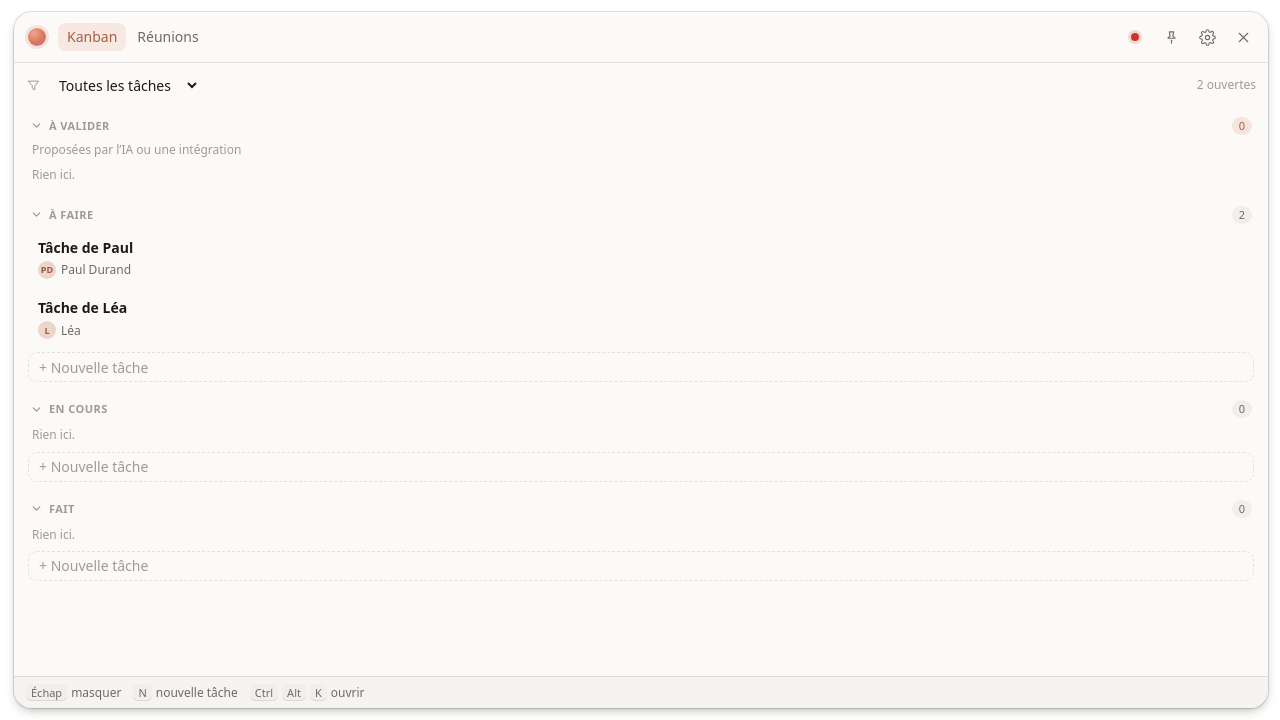
Test: Kanban filter (lead follow-up) › shows only one person’s tasks, with their avatar, and new tasks go to them
This screenshot has width=1280, height=720.
Later steps or results of the test are not shown.
Expected: the text "Tâche de Léa" is shown, [38,298,127,317]
Expected: the text "PD" is shown, [38,261,56,279]
Select "Paul Durand (1)" in the dropdown named "Filtrer les tâches" at (124, 85), box [47,71,200,99]
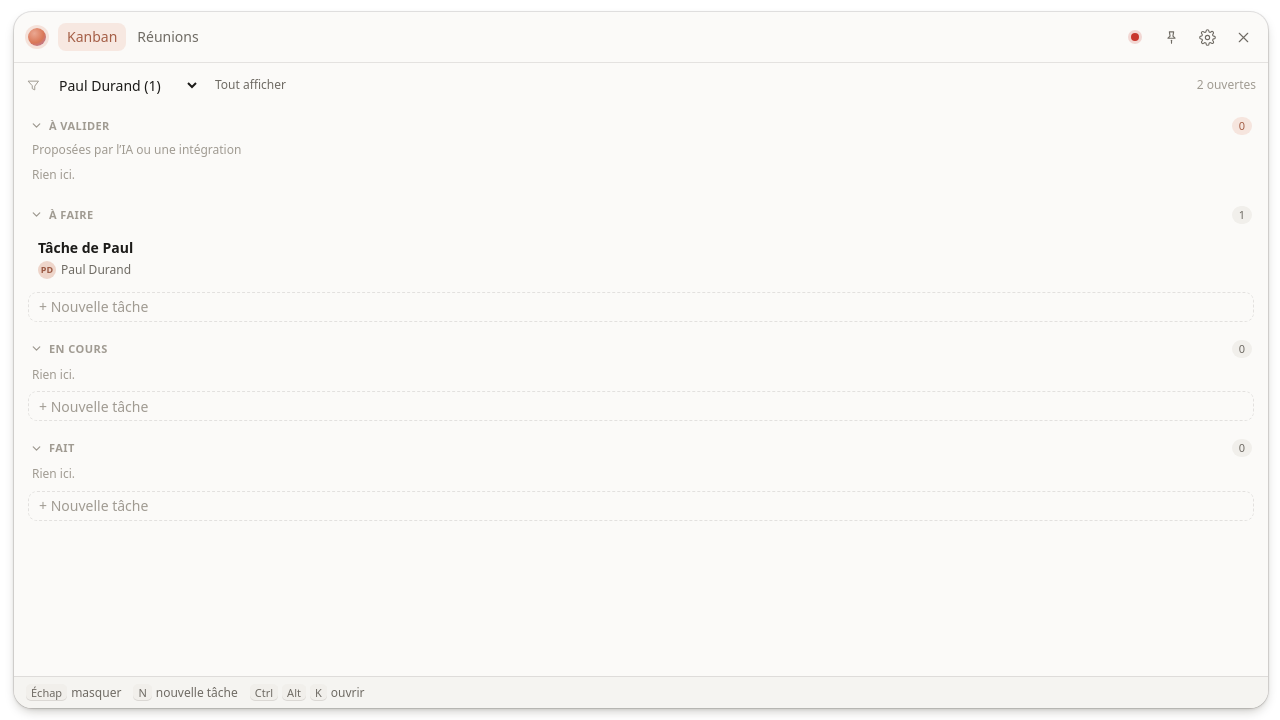
Expected: the text "Tâche de Paul" is shown, [38,238,133,257]
Expected: the button "Tâche de Léa" is gone
